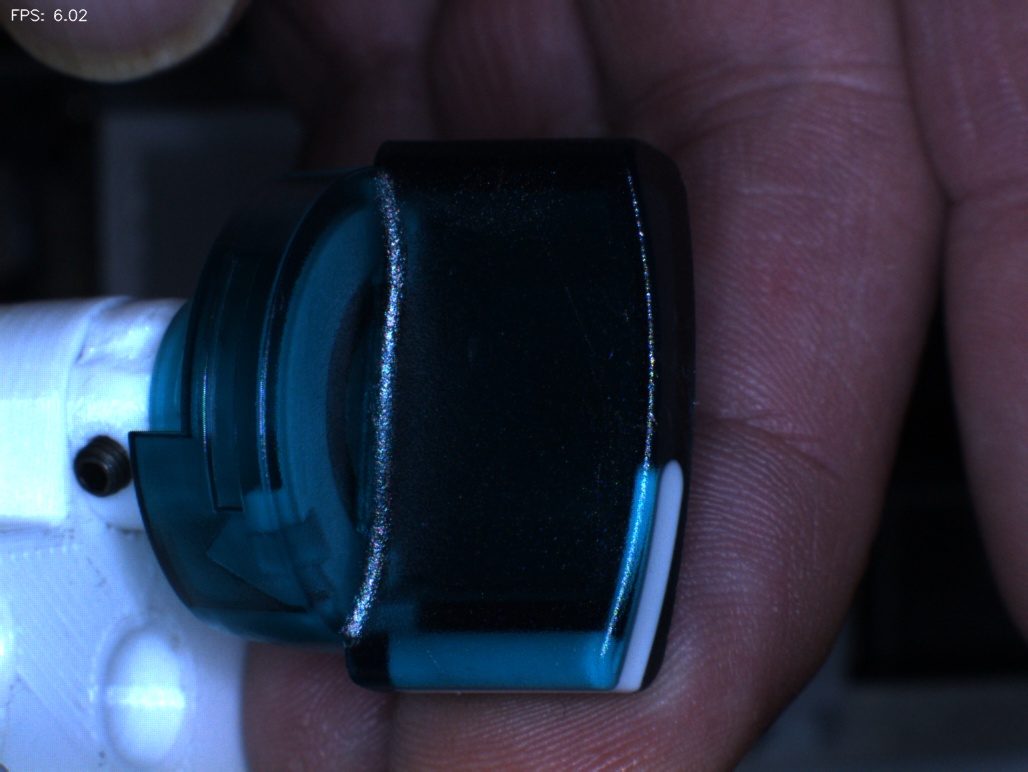Givrage: (534, 224, 630, 429)
